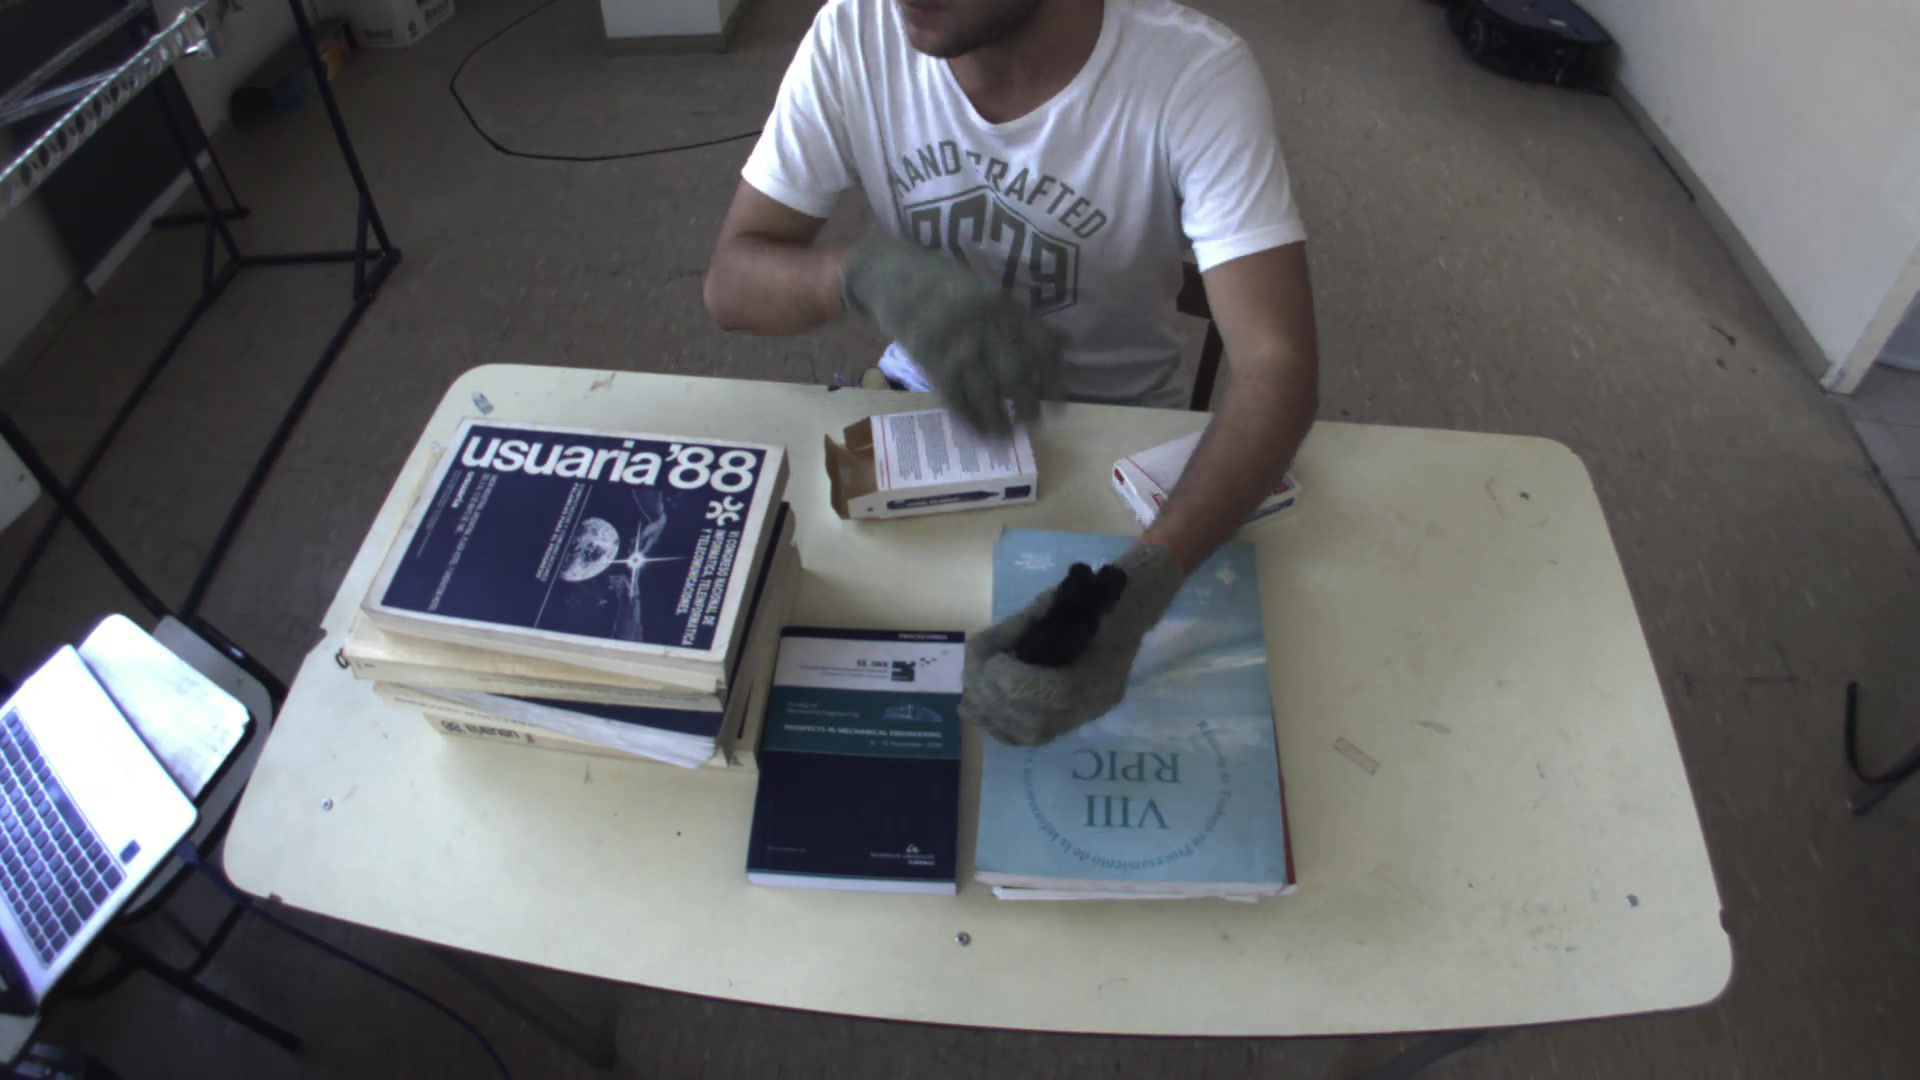hand: (945, 549, 1201, 761), (820, 229, 1065, 421)
